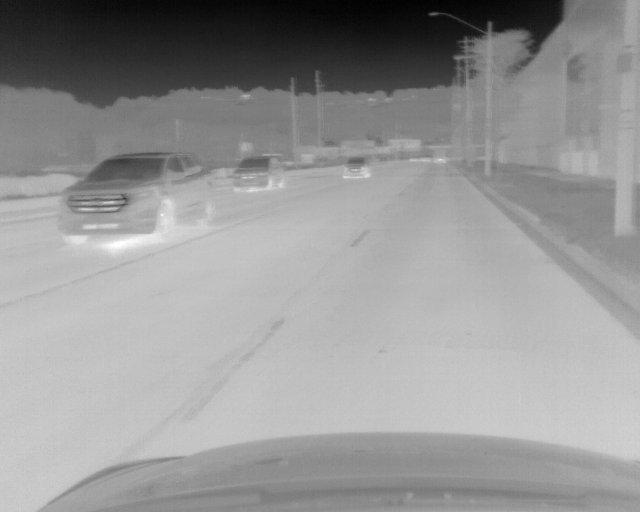car: (57, 151, 218, 246), (232, 157, 285, 190), (343, 156, 369, 177)
